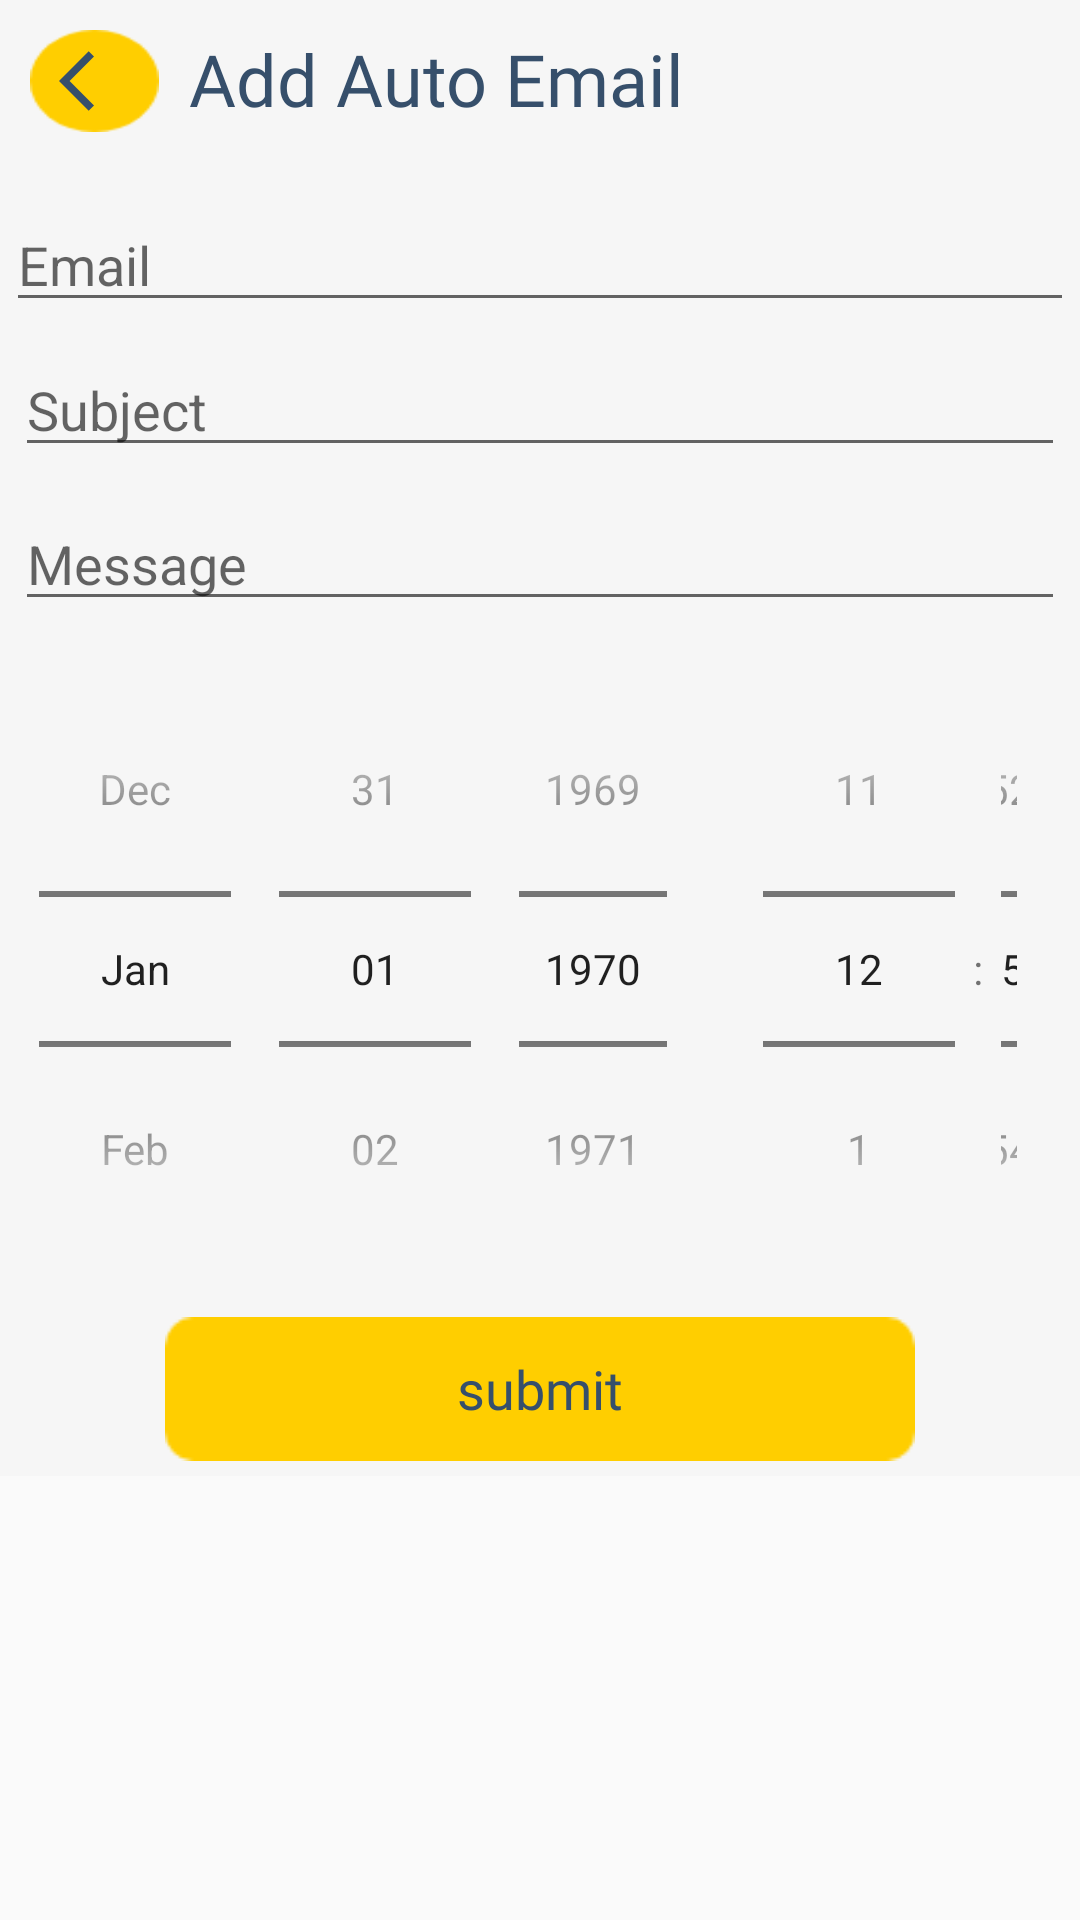

Icon bounding boxes for this 1080w x 1920h phone screenshot, format (x1, y1, x2, y2):
arrow back: (30, 30, 159, 132)
